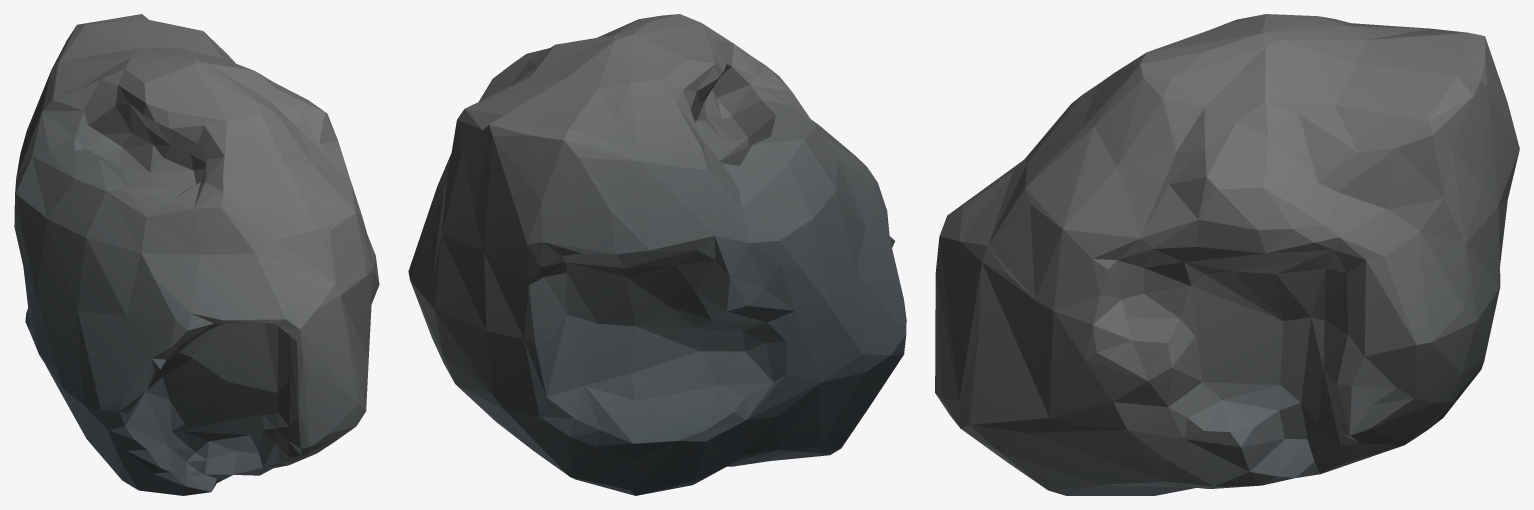
File: Esperite.fbx
3 renders of one model, left to right at view 1: azimuth 30°, elevation 25°; view 2: azimuth 150°, elevation 25°; view 3: azimuth 270°, elevation 25°, orthographic. The views are drawn at different scales.
Visible parts, largest first — view 1: ESPERITE.001; view 2: ESPERITE.001; view 3: ESPERITE.001.
Part boxes in pixels (x1,y1,x2,y2): ESPERITE.001: (14,14,379,495); ESPERITE.001: (408,14,906,495); ESPERITE.001: (935,14,1519,495).
Size of the model in its own units: 153 by 181 by 206.
Materials: 1 (1 with a texture image).
